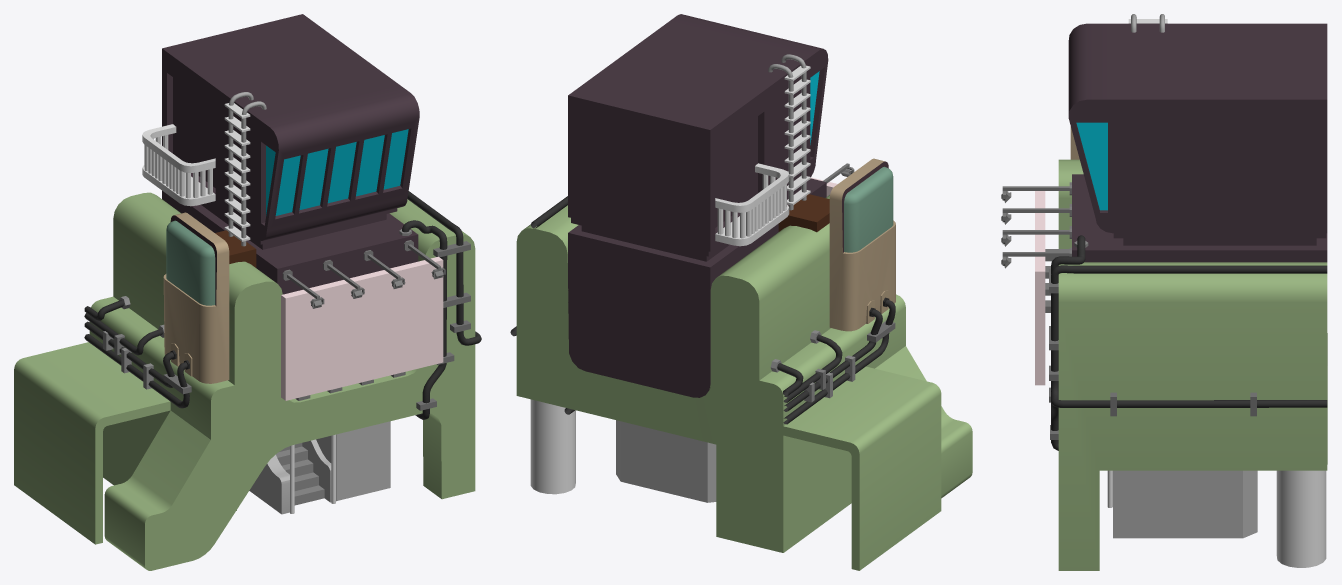
File: Slum house 1.fbx
3 views of the same model, side by side, from view 1: azimuth 30°, elevation 25°; view 2: azimuth 150°, elevation 25°; view 3: azimuth 270°, elevation 25° (orthographic). The views are drawn at different scales.
Parts seen in each view (by area): view 1: Base House, Top Block, Billboard, Battery Pack, Room Block, Stair Walls Filler, Stair walls, Rails, Ladder Steps, Stairs, Ladder Bars, Cable 6 (+8 smaller); view 2: Base House, Top Block, Room Block, Battery Pack, Stair Walls Back, Back Pillar, Rails, Ladder Steps, Ladder Bars, Ladder Step-up, Rails Handles, Cable 1 (+3 smaller); view 3: Base House, Top Block, Room Block, Cable 6, Stair Walls Filler, Back Pillar, Stair Walls Back, Billboard, Light Poles, Cable 5.
Boxes of the visible parts, bbox=[...] form: Base House: bbox=[14, 192, 475, 570]; Top Block: bbox=[162, 14, 419, 240]; Billboard: bbox=[281, 256, 443, 400]; Battery Pack: bbox=[163, 212, 229, 383]; Room Block: bbox=[162, 190, 418, 294]; Stair Walls Filler: bbox=[316, 421, 390, 501]; Stair walls: bbox=[249, 439, 331, 514]; Rails: bbox=[144, 135, 212, 198]; Ladder Steps: bbox=[224, 103, 250, 241]; Stairs: bbox=[276, 443, 324, 505]; Ladder Bars: bbox=[228, 92, 266, 246]; Cable 6: bbox=[407, 191, 481, 345]; Base House: bbox=[516, 195, 972, 570]; Top Block: bbox=[568, 14, 828, 251]; Room Block: bbox=[568, 178, 826, 397]; Battery Pack: bbox=[829, 158, 895, 331]; Stair Walls Back: bbox=[616, 420, 716, 502]; Back Pillar: bbox=[530, 399, 575, 494]; Rails: bbox=[717, 174, 786, 238]; Ladder Steps: bbox=[784, 65, 810, 205]; Ladder Bars: bbox=[768, 54, 806, 210]; Ladder Step-up: bbox=[778, 194, 829, 232]; Rails Handles: bbox=[715, 163, 789, 212]; Cable 1: bbox=[783, 299, 895, 424]; Base House: bbox=[1058, 159, 1327, 570]; Top Block: bbox=[1068, 23, 1327, 233]; Room Block: bbox=[1072, 174, 1327, 262]; Cable 6: bbox=[1051, 265, 1327, 407]; Stair Walls Filler: bbox=[1113, 470, 1187, 538]; Back Pillar: bbox=[1276, 470, 1326, 567]; Stair Walls Back: bbox=[1187, 470, 1257, 538]; Billboard: bbox=[1035, 191, 1045, 385]; Light Poles: bbox=[1002, 186, 1069, 256]; Cable 5: bbox=[1051, 235, 1085, 450].
Size of the model in its own units: 1202 by 1356 by 882.
